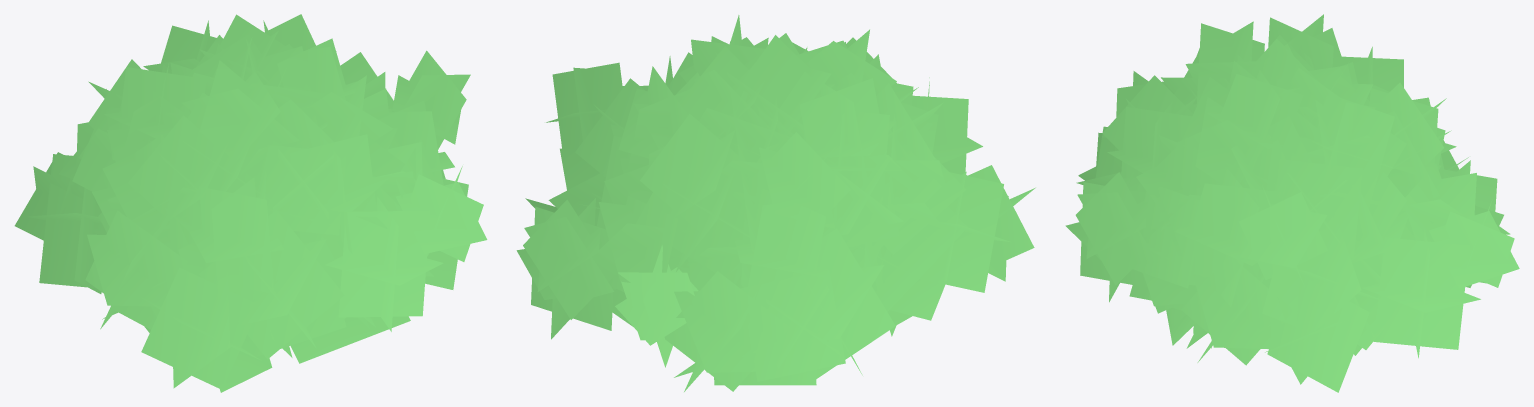
The model's file is SM_bush_01.fbx.
The picture shows the model from 3 angles, left to right: view 1: azimuth 30°, elevation 25°; view 2: azimuth 150°, elevation 25°; view 3: azimuth 270°, elevation 25°; orthographic projection. The views are drawn at different scales.
Parts seen in each view (by area): view 1: Line223; view 2: Line223; view 3: Line223.
Part boxes in pixels (x1,y1,x2,y2): Line223: (14,14,487,392); Line223: (516,15,1035,391); Line223: (1065,14,1519,392).
Size of the model in its own units: 131 by 90.19 by 132.
